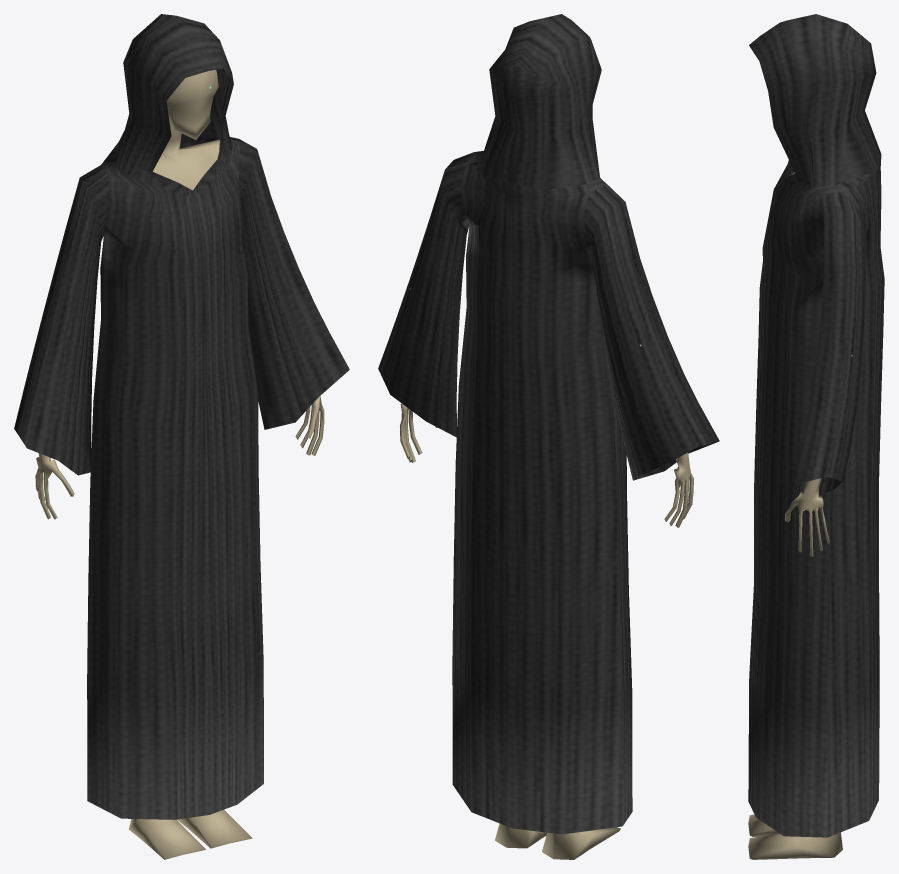
Rendered from Mor_Skeleton_pfv.fbx.
3 renders of one model, left to right at view 1: azimuth 30°, elevation 25°; view 2: azimuth 150°, elevation 25°; view 3: azimuth 270°, elevation 25°, orthographic.
Visible parts, largest first — view 1: Plane.001, Plane; view 2: Plane.001, Plane; view 3: Plane.001, Plane.
Part boxes in pixels (<box>): Plane.001: <box>14,14,349,819</box>; Plane: <box>35,69,324,859</box>; Plane.001: <box>378,14,719,834</box>; Plane: <box>400,288,693,859</box>; Plane.001: <box>748,14,884,837</box>; Plane: <box>748,172,852,859</box>.
Size of the model in its own units: 92.89 by 223 by 33.41.
